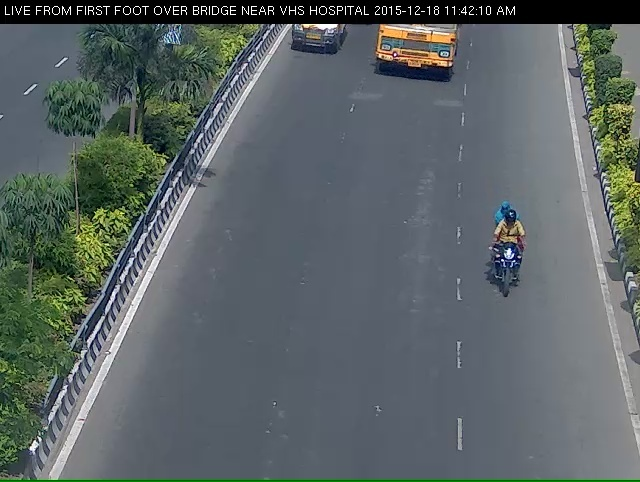Auto: (283, 19, 355, 61)
Bus: (369, 17, 468, 90)
Person: (494, 217, 527, 315)
